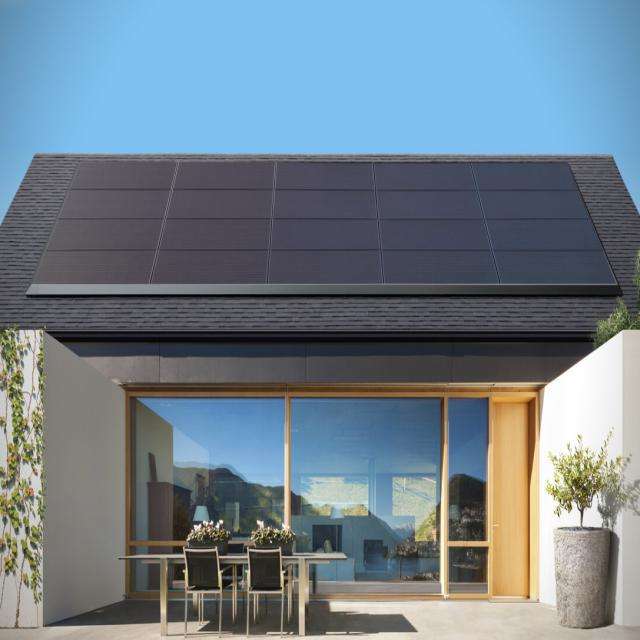clean-solar-panel: (30, 157, 618, 294)
